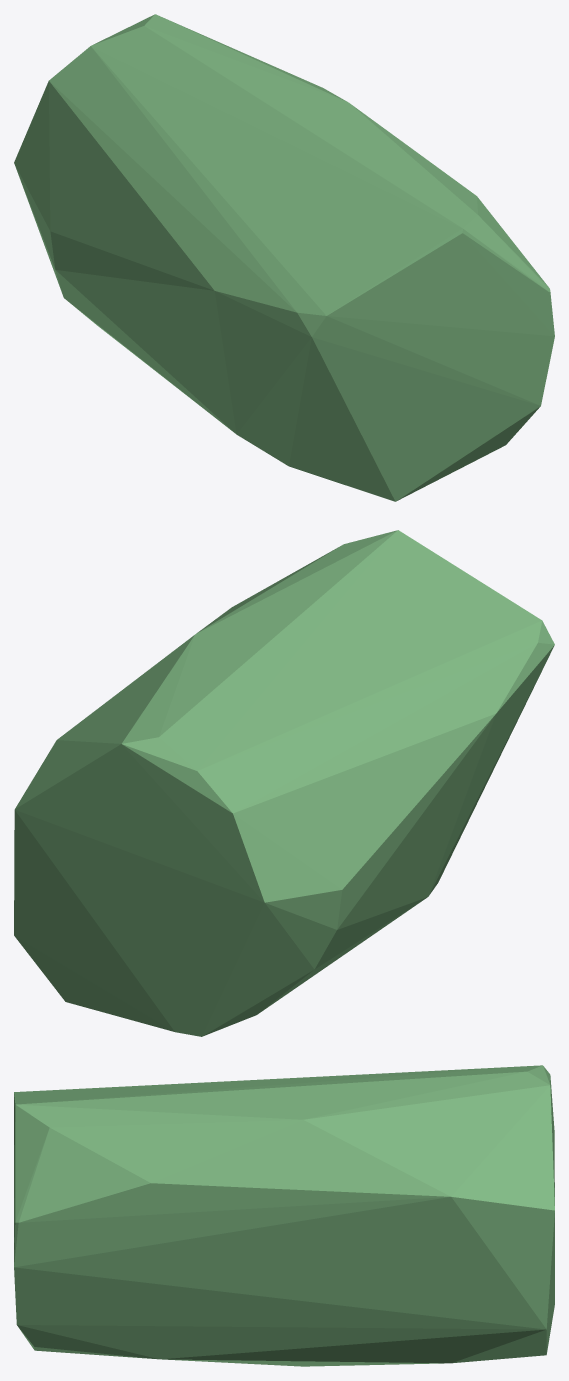
File: container_jar_glass_red_a02.glb
3 renders of one model, top to bottom at view 1: azimuth 30°, elevation 25°; view 2: azimuth 150°, elevation 25°; view 3: azimuth 270°, elevation 25°, orthographic. The views are drawn at different scales.
Parts seen in each view (by area): view 1: geometry_0; view 2: geometry_0; view 3: geometry_0.
Boxes of the visible parts, left/top/right/bottom form: geometry_0: left=14, top=14, right=554, bottom=501; geometry_0: left=14, top=530, right=554, bottom=1036; geometry_0: left=14, top=1065, right=554, bottom=1366.
Size of the model in its own units: 0.2614 by 0.2691 by 0.4797.
